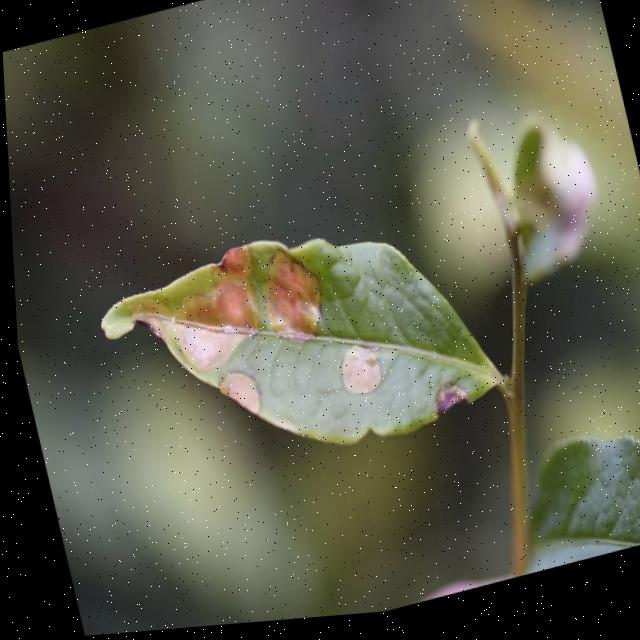Tea cake: (156, 274, 269, 376), (248, 230, 337, 351), (316, 339, 391, 413), (206, 364, 268, 427), (204, 236, 254, 284)
